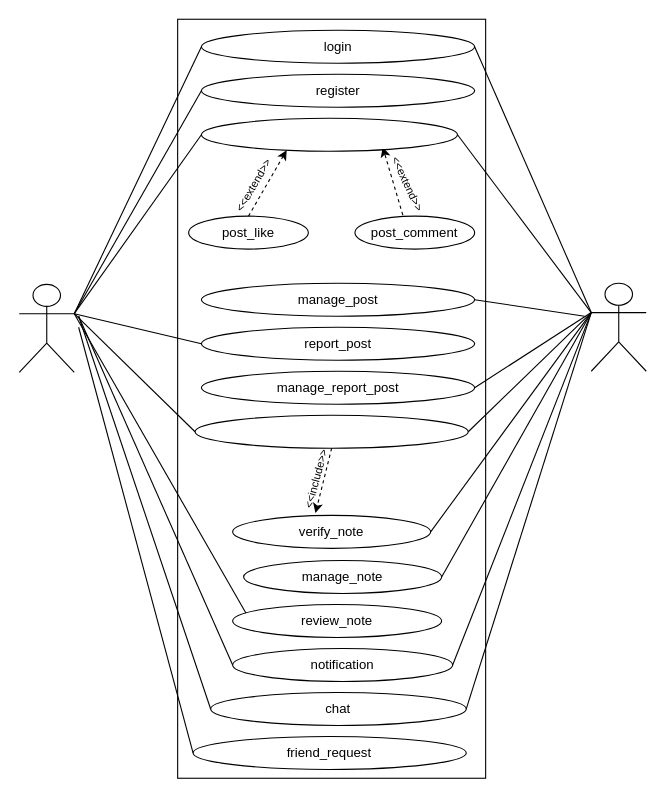
Image size: 666x798. Some labels were removed from this diagram. Each missing label, with the box of its shape:
Admin: (590, 282, 646, 371)
create_note: (194, 414, 468, 448)
post: (200, 117, 457, 151)
User: (18, 283, 74, 372)
